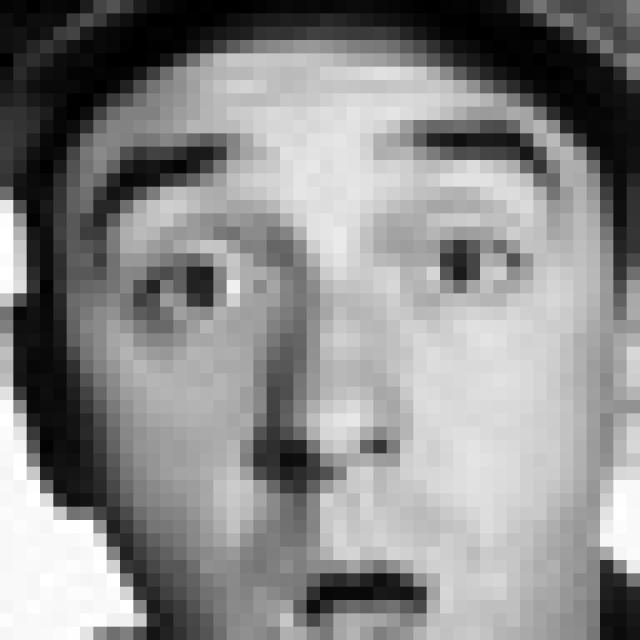surprise: (70, 121, 571, 640)
